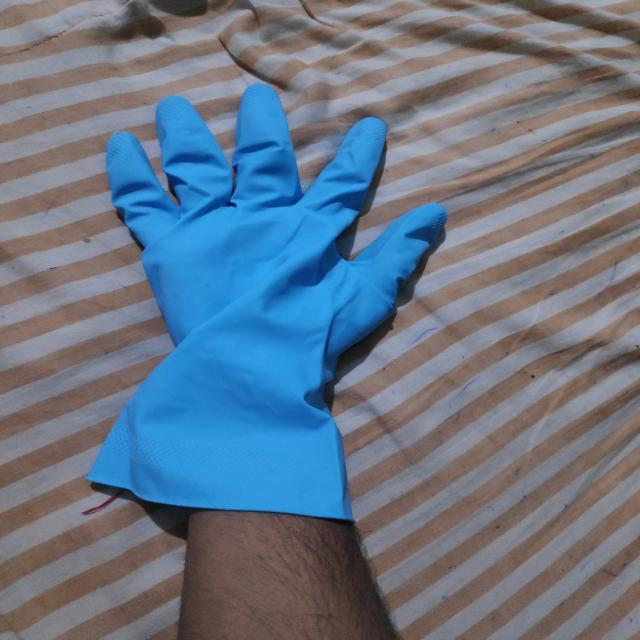glove_hand: (88, 73, 450, 536)
